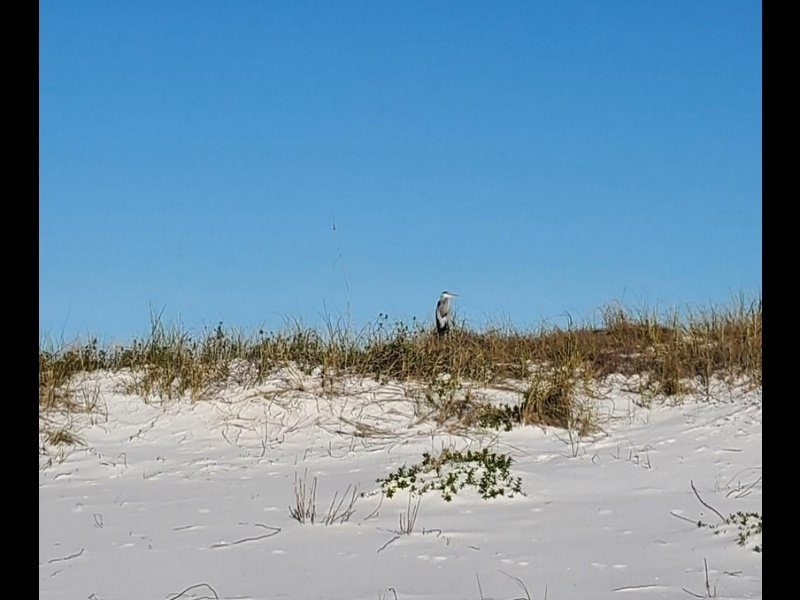heron: (436, 290, 460, 339)
